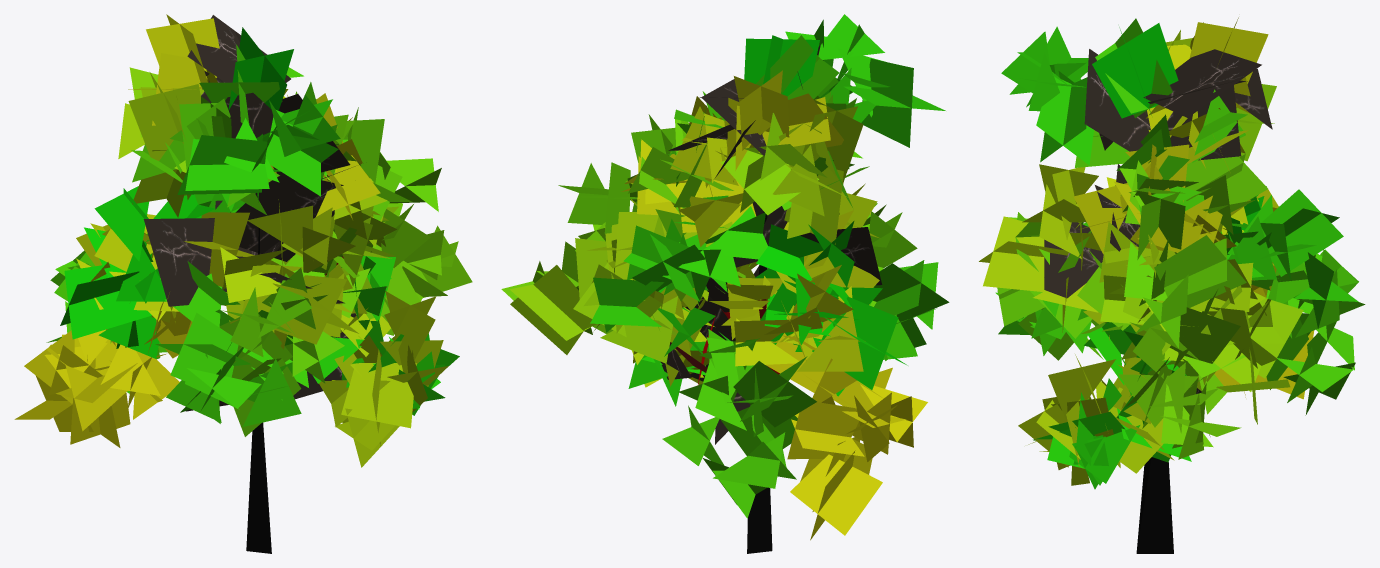
File: linden2 lod3.FBX
3 renders of one model, left to right at view 1: azimuth 30°, elevation 25°; view 2: azimuth 150°, elevation 25°; view 3: azimuth 270°, elevation 25°, orthographic.
Visible parts, largest first — view 1: linden2_LOD3; view 2: linden2_LOD3; view 3: linden2_LOD3.
Part boxes in pixels (box(x1,y1,x2,y2)): linden2_LOD3: box(14, 14, 472, 553); linden2_LOD3: box(501, 14, 949, 553); linden2_LOD3: box(979, 17, 1365, 553).
Size of the model in its own units: 120899 by 146125 by 98276.
